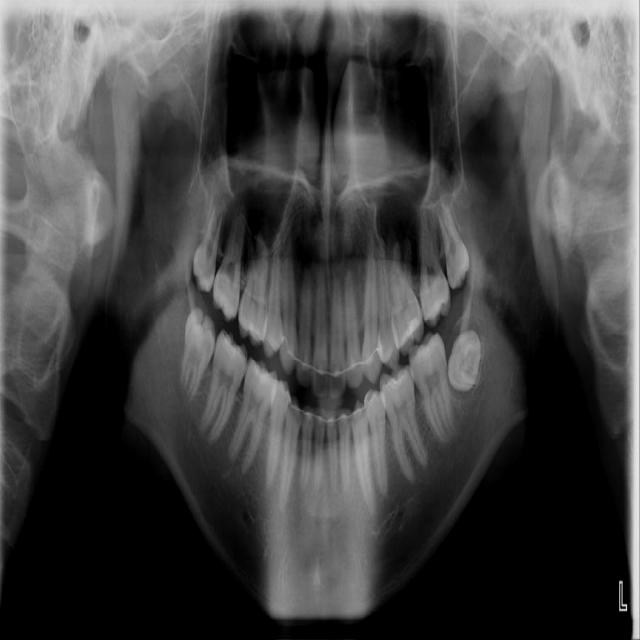impacted tooth: (183, 308, 213, 400), (446, 330, 480, 392)
